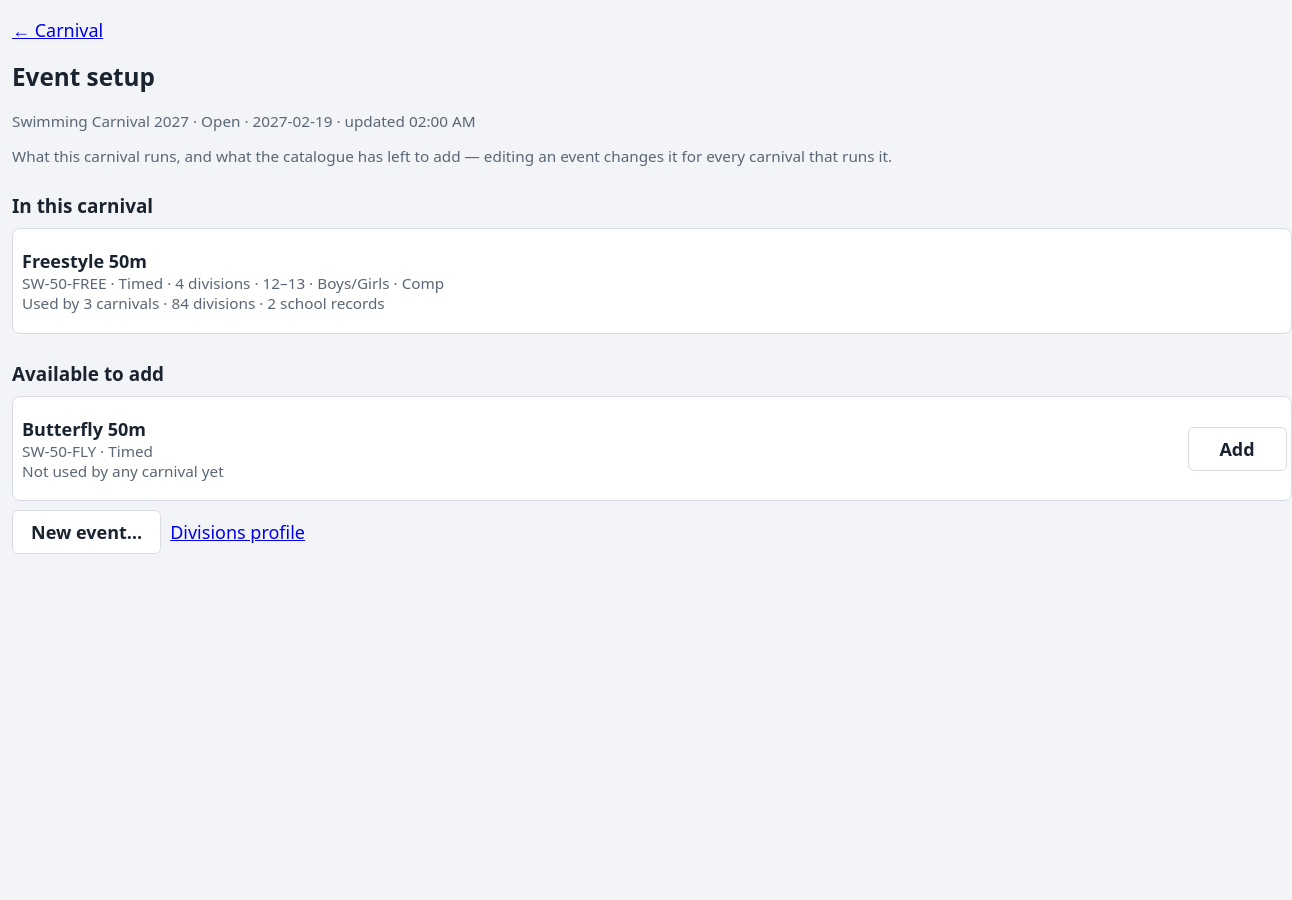
Test case: EventSetupScreen — Available to add (ADR-0059) › writes nothing when a profile was saved elsewhere since the screen loaded
This screenshot has width=1292, height=900.
Click the button with aria-label "Add Butterfly 50m" at (1237, 449), box [1188,427,1286,471]
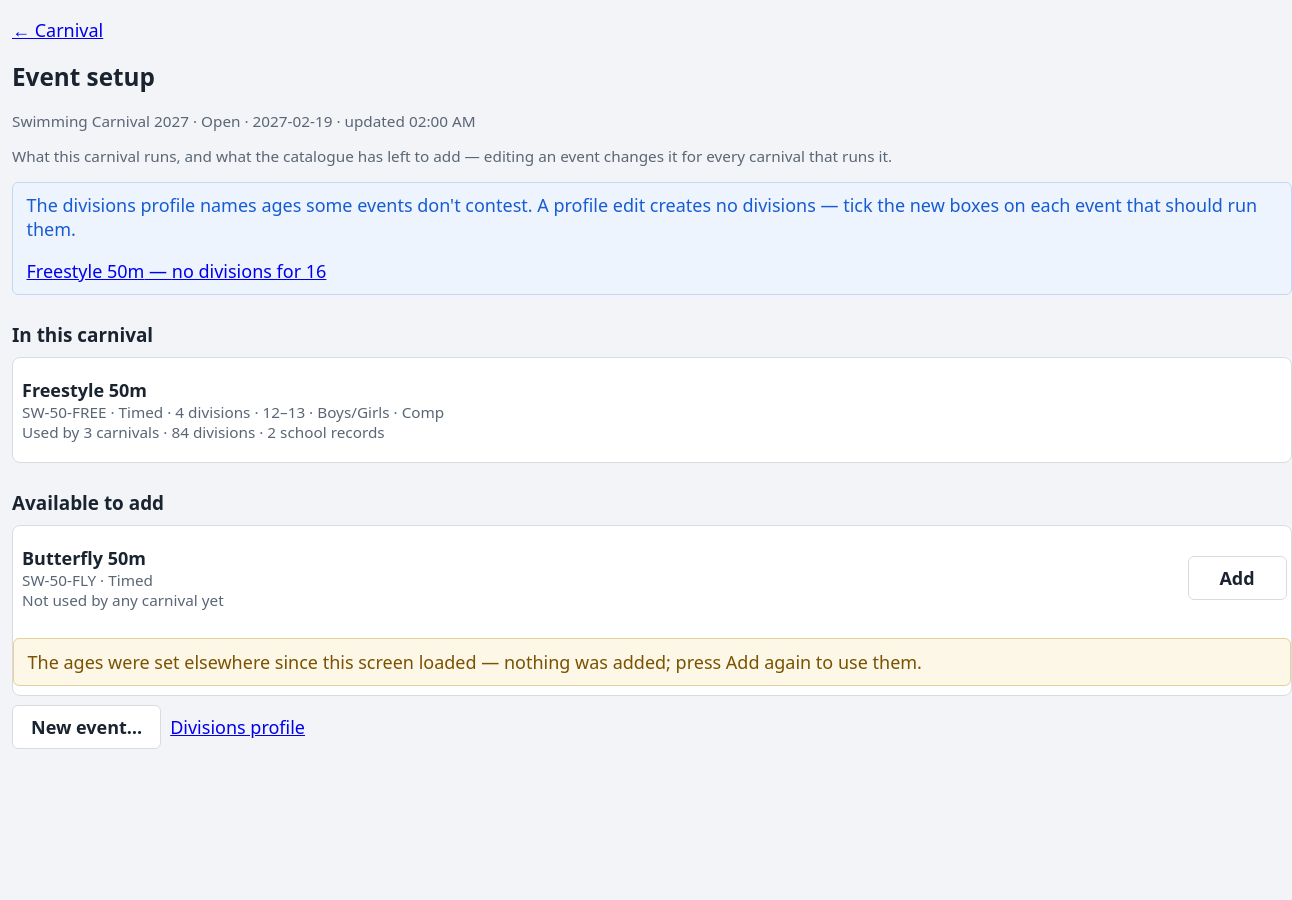
Check: the text "The ages were set elsewhere since this screen loaded" shows "press Add again", box [28,650,922,674]
